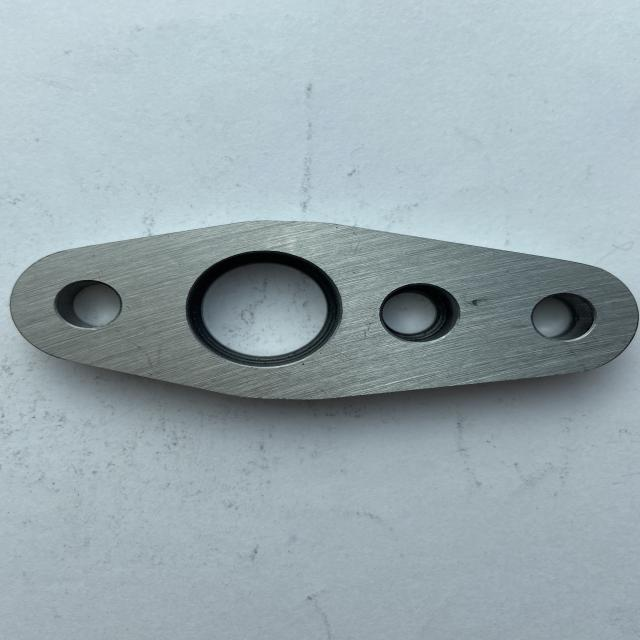chap: (90, 252, 98, 260)
lines: (134, 341, 165, 372), (560, 342, 589, 370), (362, 319, 381, 339), (466, 296, 491, 310)
